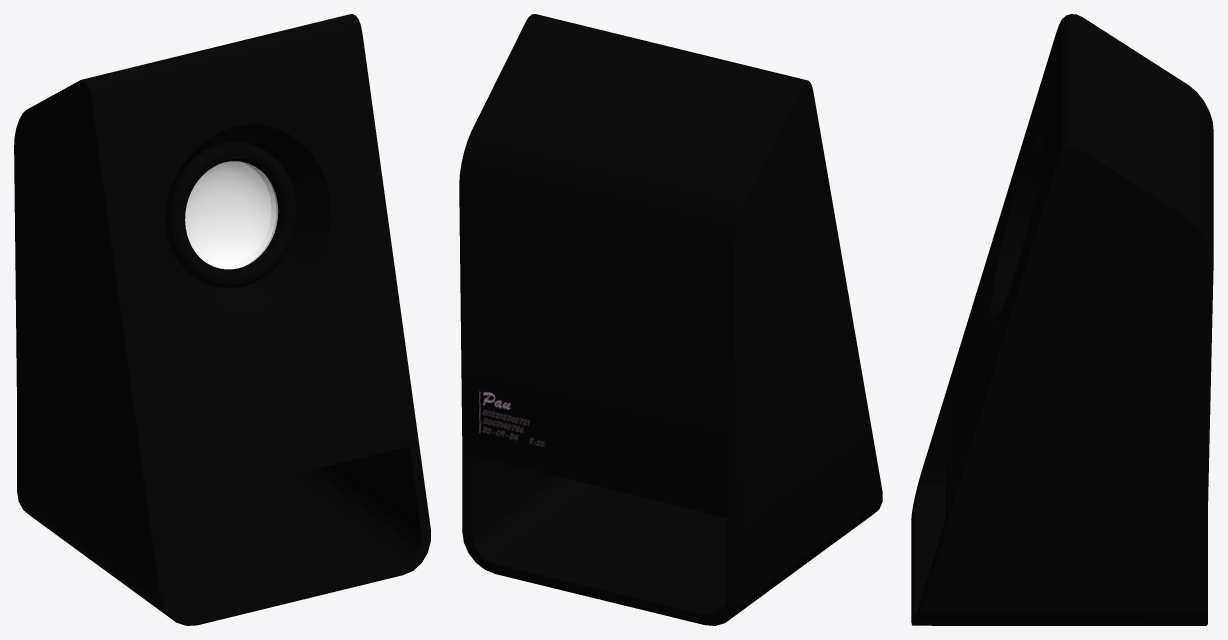
The model's file is parlante2_-_paula_pinzon.glb.
The picture shows the model from 3 angles, left to right: view 1: azimuth 30°, elevation 25°; view 2: azimuth 150°, elevation 25°; view 3: azimuth 270°, elevation 25°; orthographic projection.
Parts seen in each view (by area): view 1: Parlante 02 - Paula Pinzon; view 2: Parlante 02 - Paula Pinzon; view 3: Parlante 02 - Paula Pinzon.
Part boxes in pixels (x1=…): Parlante 02 - Paula Pinzon: x1=14, y1=14, x2=430, y2=625; Parlante 02 - Paula Pinzon: x1=459, y1=14, x2=882, y2=625; Parlante 02 - Paula Pinzon: x1=911, y1=14, x2=1213, y2=625.
Size of the model in its own units: 0.0806 by 0.1399 by 0.0778.
1 material, 1 textured.
